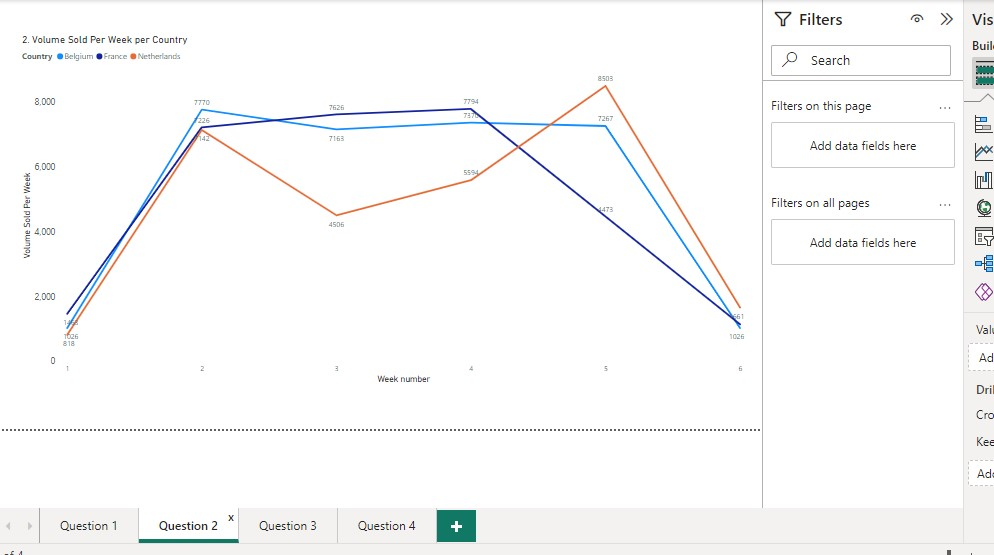

The page's visual inventory and layout, read from the dashboard file:
{"tool":"powerbi","page":{"name":"Question 2","canvas":[1280,720],"ordinal":1},"visuals":[{"type":"lineChart","title":"2. Volume Sold Per Week per Country","fields":{"Y":["CountryCombined.WeeklyVolumePerCountry"],"Category":["CountryCombined.Week number"],"Series":["CountryCombined.Country"]},"box":[31.9,55.4,1226.2,594.6],"z":0}]}

Visuals, with their boxes on the page's 1280x720 design canvas (x1, y1, x2, y2). These are canvas units, not pixel positions in the 994x555 screenshot, which may show the page scaled, cropped or inside an application window:
"2. Volume Sold Per Week per Country" lineChart: bbox=(32, 55, 1258, 650)
